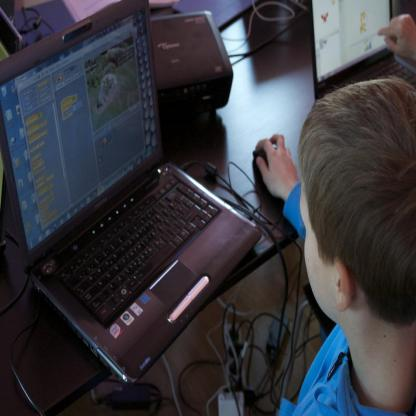board: (0, 0, 260, 384), (307, 0, 416, 105)
